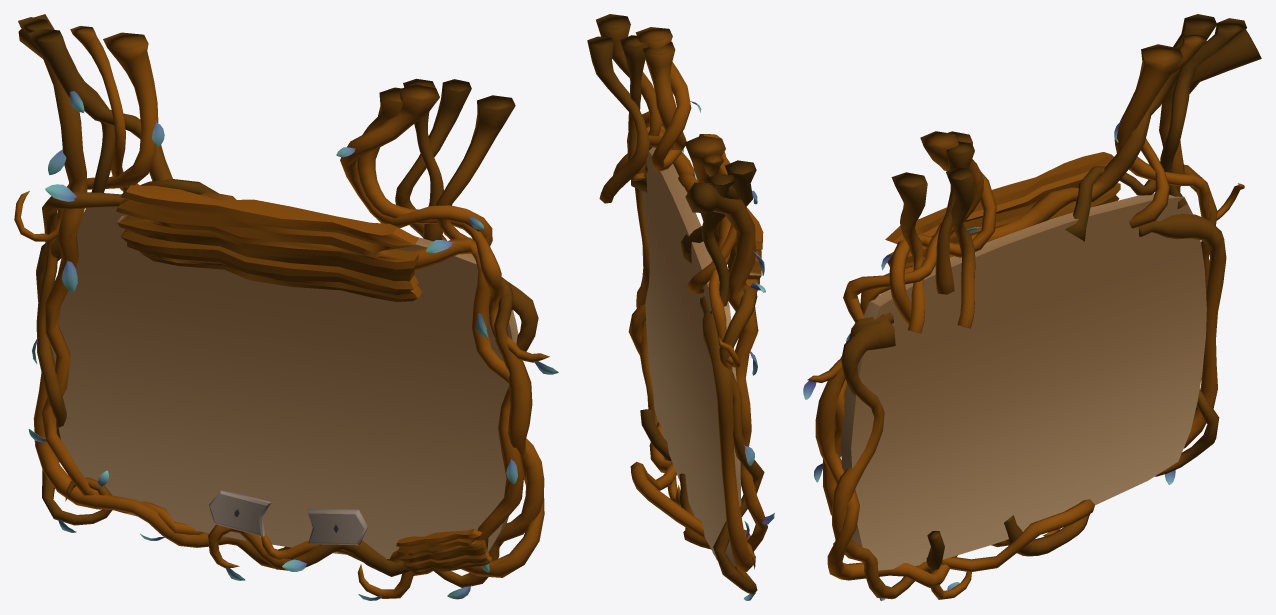
The model's file is MMTutorialBoard.fbx.
3 renders of one model, left to right at view 1: azimuth 30°, elevation 25°; view 2: azimuth 150°, elevation 25°; view 3: azimuth 270°, elevation 25°, orthographic. The views are drawn at different scales.
Visible parts, largest first — view 1: HotToPlayBoard; view 2: HotToPlayBoard; view 3: HotToPlayBoard.
Part boxes in pixels (left/top/right/bottom): HotToPlayBoard: left=14, top=14, right=558, bottom=600; HotToPlayBoard: left=587, top=14, right=774, bottom=600; HotToPlayBoard: left=803, top=14, right=1261, bottom=600.
Bounding box in the file's own units: 3.69 × 5.38 × 4.61.
